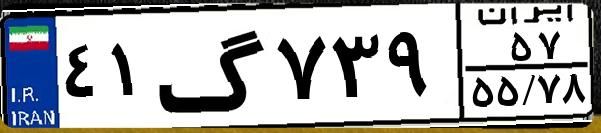1: (110, 28, 156, 98)
3: (330, 28, 385, 110)
4: (57, 26, 110, 100)
5: (508, 27, 537, 80), (470, 70, 495, 125), (495, 70, 520, 125)
7: (270, 28, 330, 110), (537, 27, 568, 80), (535, 70, 560, 125)
8: (560, 70, 590, 125)
9: (385, 28, 445, 110)
گ: (156, 12, 270, 120)
